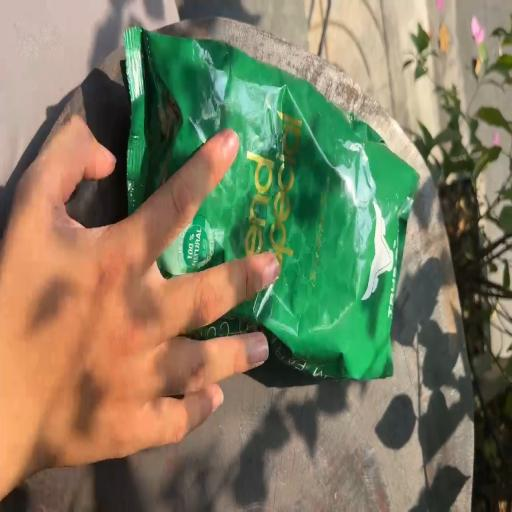cafe_xay: (124, 28, 418, 379)
